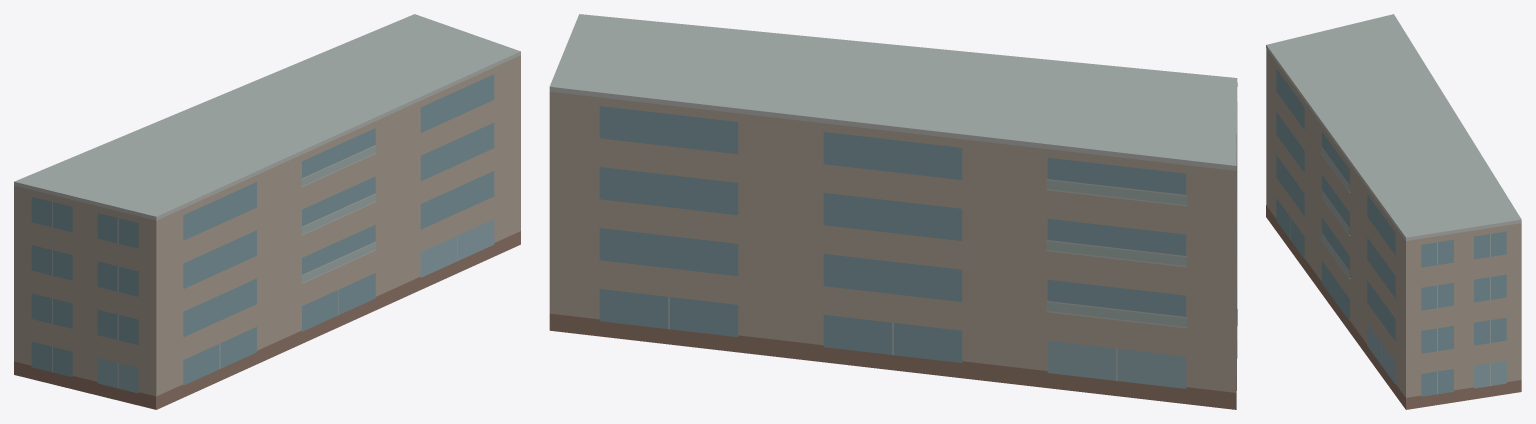
File: residential-5c181180-d83c-4de3-b7bf-b8d4767b0c66.glb
3 views of the same model, side by side, from view 1: azimuth 30°, elevation 25°; view 2: azimuth 150°, elevation 25°; view 3: azimuth 270°, elevation 25° (orthographic). The views are drawn at different scales.
Visible parts, largest first — view 1: residential-5c181180-d83c-4de3-b7bf-b8d4767b0c66.tmp; view 2: residential-5c181180-d83c-4de3-b7bf-b8d4767b0c66.tmp; view 3: residential-5c181180-d83c-4de3-b7bf-b8d4767b0c66.tmp.
Part boxes in pixels (x1,y1,x2,y2): residential-5c181180-d83c-4de3-b7bf-b8d4767b0c66.tmp: (14, 14, 520, 409); residential-5c181180-d83c-4de3-b7bf-b8d4767b0c66.tmp: (549, 14, 1237, 409); residential-5c181180-d83c-4de3-b7bf-b8d4767b0c66.tmp: (1266, 14, 1521, 409).
Bounding box in the file's own units: 33.96 × 12.2 × 16.41.
